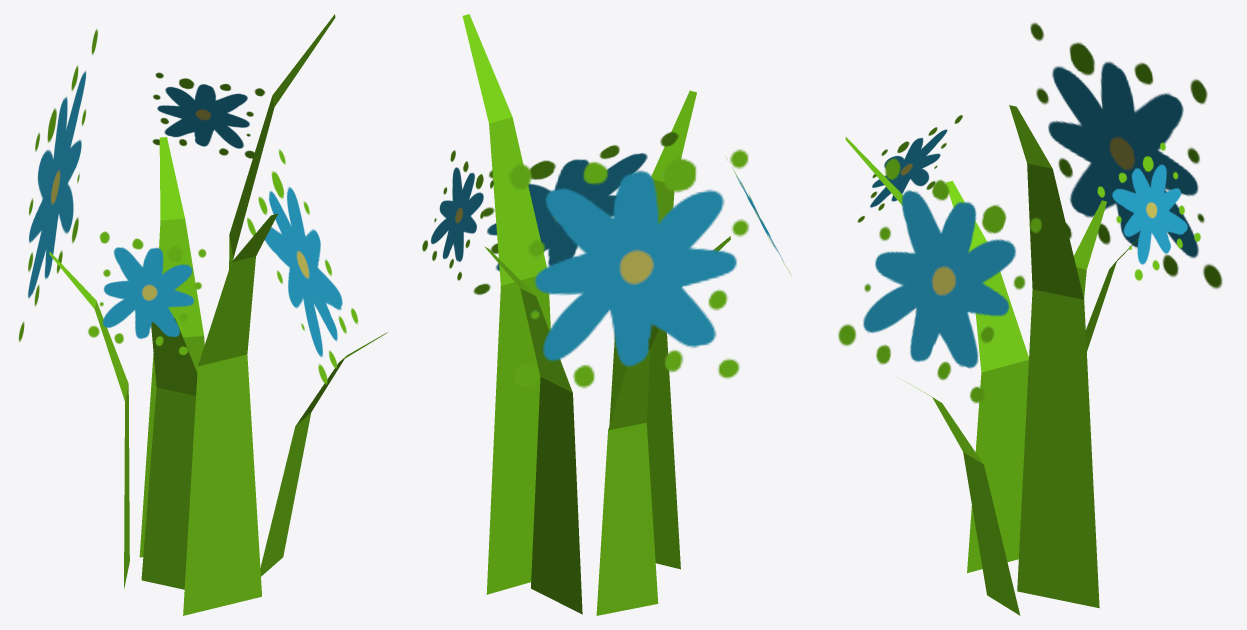
File: blue.glb
3 renders of one model, left to right at view 1: azimuth 30°, elevation 25°; view 2: azimuth 150°, elevation 25°; view 3: azimuth 270°, elevation 25°, orthographic.
Parts seen in each view (by area): view 1: Plane.004; view 2: Plane.004; view 3: Plane.004.
Boxes of the visible parts, x1=… form: Plane.004: x1=18, y1=14, x2=387, y2=615; Plane.004: x1=422, y1=14, x2=791, y2=615; Plane.004: x1=838, y1=22, x2=1222, y2=615.
Size of the model in its own units: 0.3319 by 0.5312 by 0.3672.
Materials: 1 (1 with a texture image).
